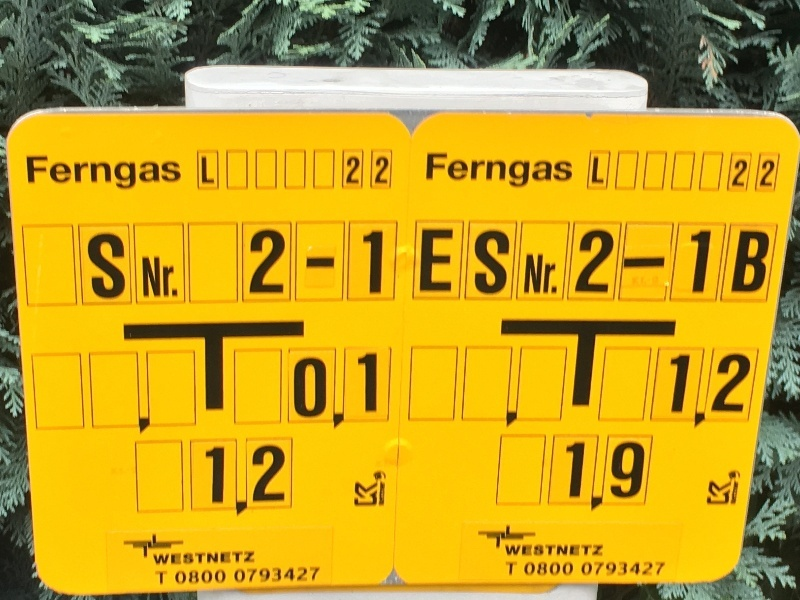text: (97, 233, 112, 301), (113, 233, 128, 301), (433, 227, 448, 294), (257, 230, 272, 295), (369, 230, 384, 295), (481, 230, 496, 295), (593, 230, 608, 294), (753, 230, 768, 294), (737, 353, 753, 413), (305, 358, 320, 420), (209, 447, 225, 505), (497, 230, 511, 295), (721, 353, 736, 413), (673, 354, 688, 413), (257, 446, 272, 503), (273, 230, 286, 295), (691, 230, 704, 295), (625, 443, 640, 499), (740, 230, 752, 294), (273, 446, 286, 503), (421, 227, 432, 294), (357, 354, 368, 413), (582, 230, 592, 294), (145, 257, 160, 299), (161, 257, 176, 299), (529, 253, 544, 294), (545, 253, 560, 294), (87, 233, 96, 301), (33, 155, 48, 195), (49, 155, 64, 195), (65, 155, 80, 195), (81, 155, 96, 195), (97, 155, 112, 195), (113, 155, 128, 195), (129, 155, 144, 195), (145, 155, 160, 195), (161, 155, 176, 195), (566, 443, 576, 499), (614, 443, 624, 499), (295, 358, 304, 420), (433, 152, 448, 189), (449, 152, 464, 189), (465, 152, 480, 189), (481, 152, 496, 189), (497, 152, 512, 189), (513, 152, 528, 189), (529, 152, 544, 189), (545, 152, 560, 189), (369, 354, 378, 413), (561, 152, 574, 189), (705, 230, 712, 295), (609, 230, 616, 294), (577, 443, 585, 499), (321, 358, 328, 420), (594, 157, 608, 185), (737, 160, 750, 188), (449, 227, 454, 294), (251, 230, 256, 295), (363, 230, 368, 295), (354, 483, 368, 506), (305, 566, 321, 586), (177, 566, 192, 586), (193, 566, 208, 586), (209, 566, 224, 586), (225, 566, 240, 586), (241, 566, 256, 586), (257, 566, 272, 586), (273, 566, 288, 586), (289, 566, 304, 586), (641, 443, 646, 499), (709, 482, 720, 506), (721, 482, 732, 506), (476, 230, 480, 295), (26, 155, 32, 195), (529, 562, 544, 578), (545, 562, 560, 578), (561, 562, 576, 578), (577, 562, 592, 578), (593, 562, 608, 578), (609, 562, 624, 578), (625, 562, 640, 578), (641, 562, 656, 578), (161, 551, 176, 566), (177, 551, 192, 566), (193, 551, 208, 566), (209, 551, 224, 566), (225, 551, 240, 566), (241, 551, 256, 566), (376, 157, 384, 185), (426, 152, 432, 189), (369, 483, 378, 506), (177, 155, 182, 195), (353, 157, 360, 185), (769, 159, 776, 187), (321, 257, 336, 270), (625, 257, 640, 270), (641, 257, 656, 270), (513, 544, 528, 557), (529, 544, 544, 557), (545, 544, 560, 557), (561, 544, 576, 557), (577, 544, 592, 557), (205, 447, 208, 505), (253, 446, 256, 503), (307, 257, 320, 270), (202, 157, 208, 185), (209, 157, 215, 185), (657, 562, 667, 578), (593, 544, 604, 557), (347, 157, 352, 185), (763, 159, 768, 187), (769, 230, 771, 294), (161, 570, 169, 586), (657, 257, 666, 270), (385, 157, 389, 185), (153, 551, 160, 566), (505, 544, 512, 557), (506, 562, 512, 577), (513, 562, 519, 577), (142, 257, 144, 299), (177, 257, 179, 299), (526, 253, 528, 294), (155, 570, 160, 586), (671, 354, 672, 413), (689, 354, 690, 413), (525, 562, 528, 578), (735, 160, 736, 188), (175, 566, 176, 586)
